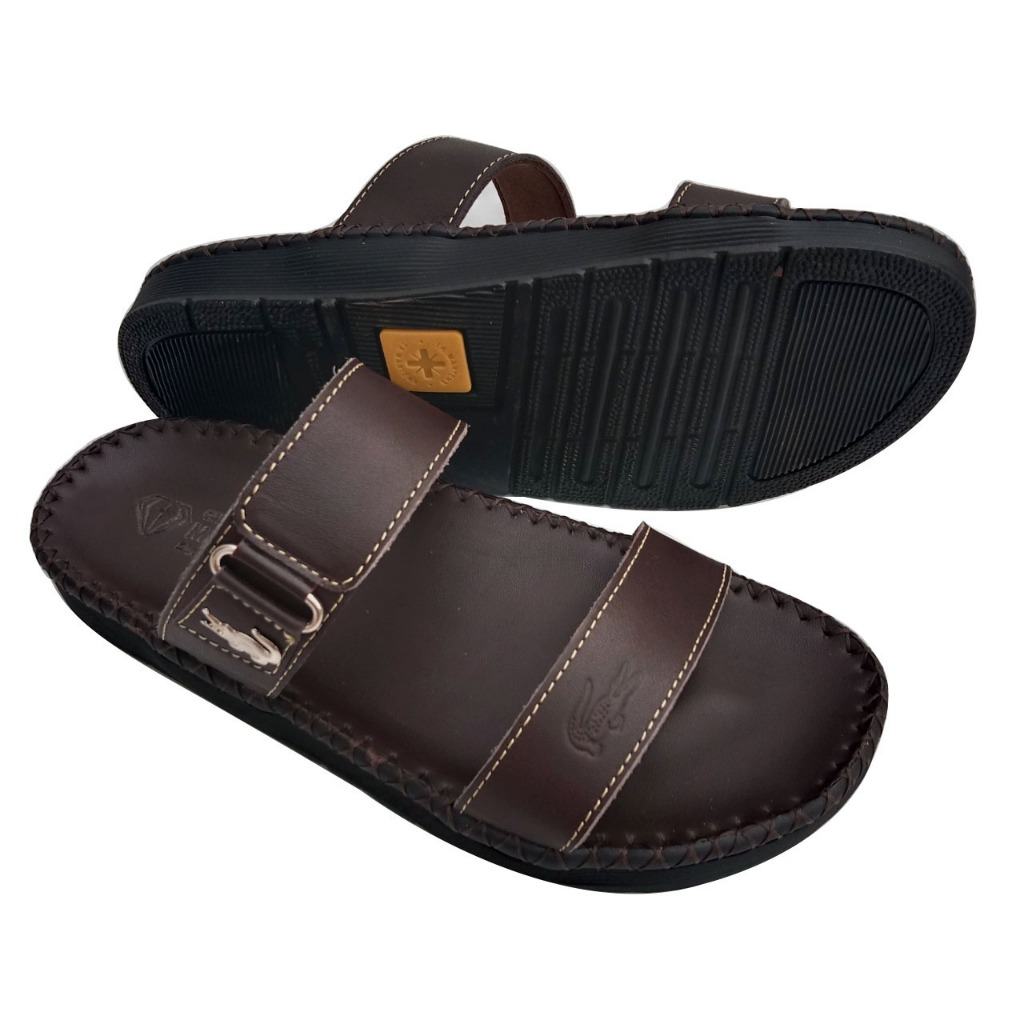sandals: (27, 357, 889, 896), (116, 135, 978, 512)
